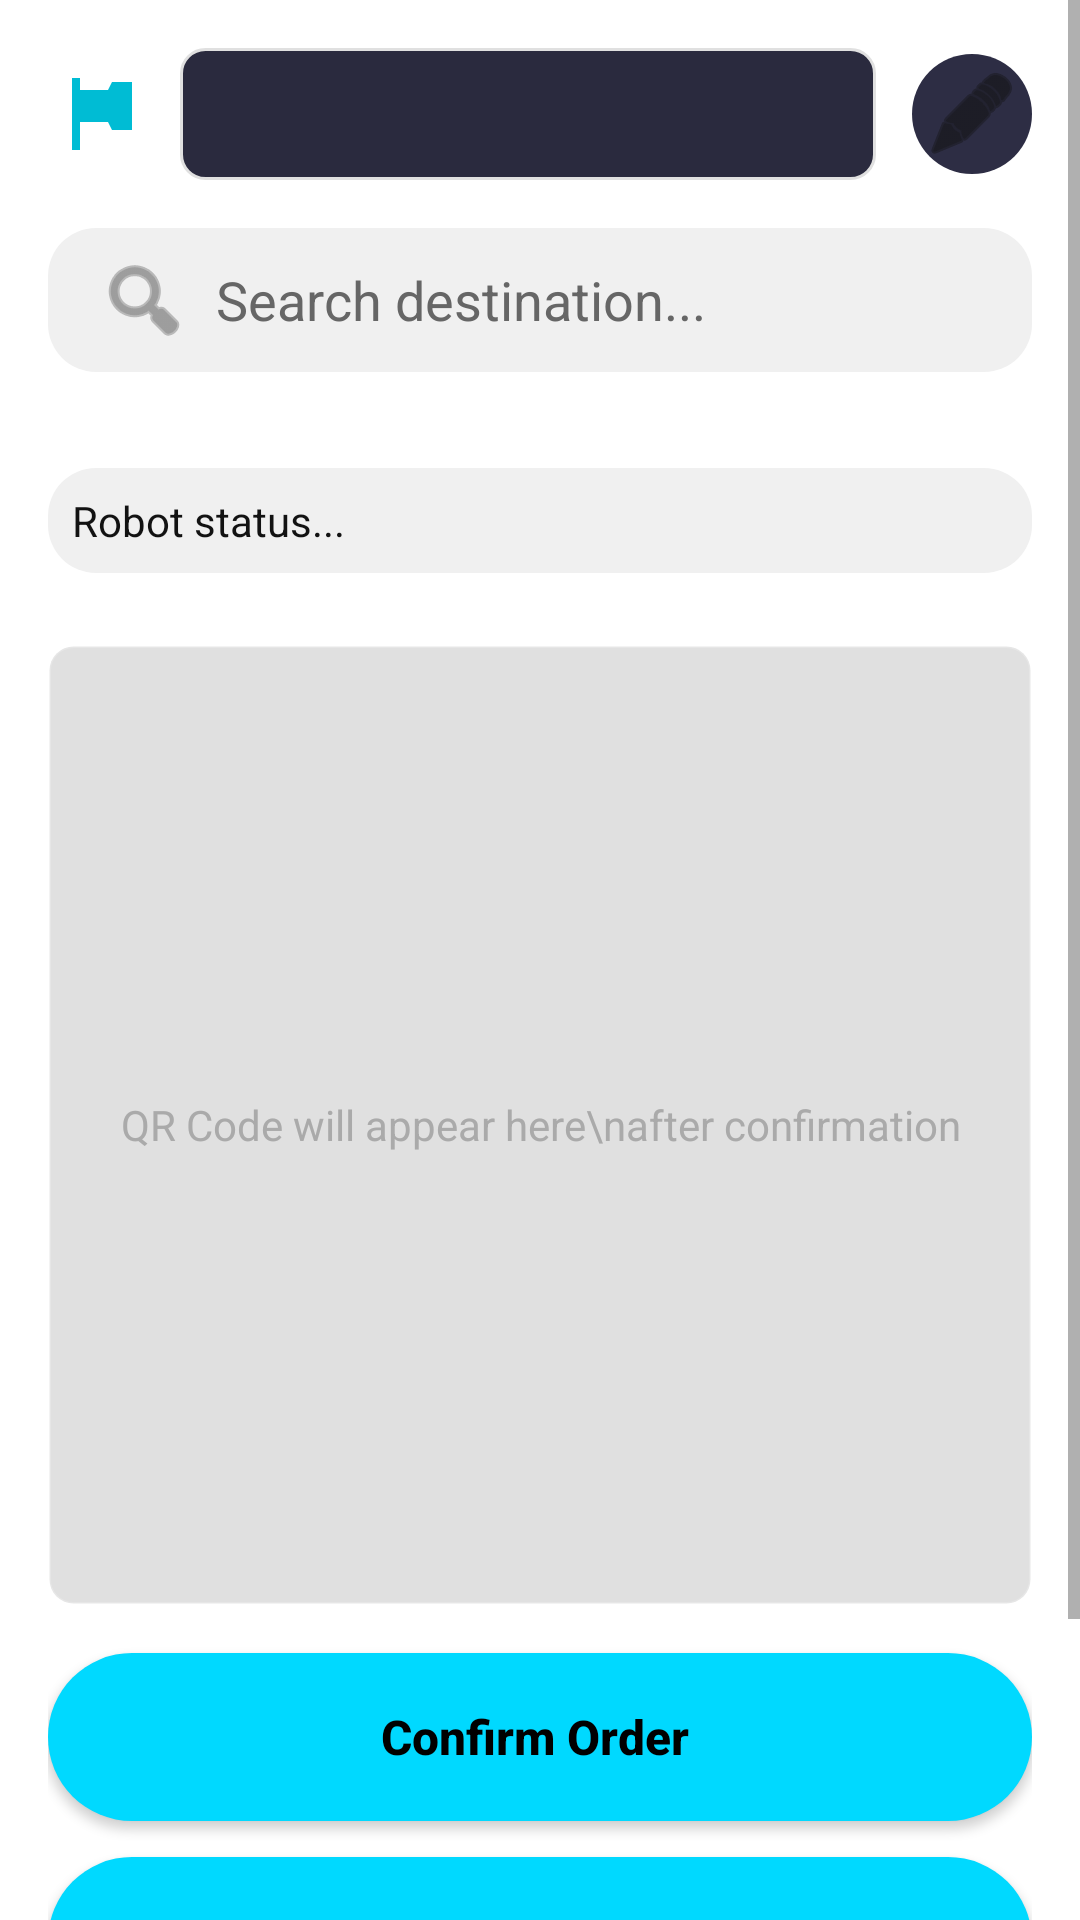

Named icons in this screenshot (1080w x 1920h) and their bounding boxes, (x1, y1, x2, y2):
Edit Destinations: (912, 54, 1032, 174)
